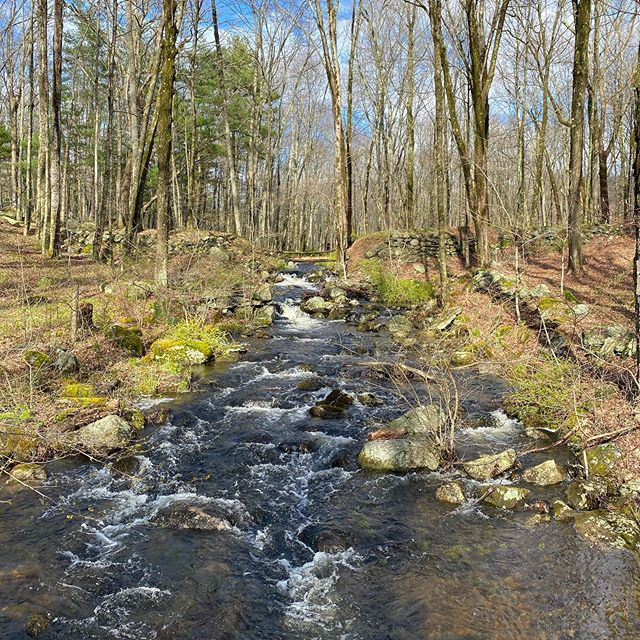river: (1, 280, 589, 640)
vegetation: (1, 1, 640, 262)
